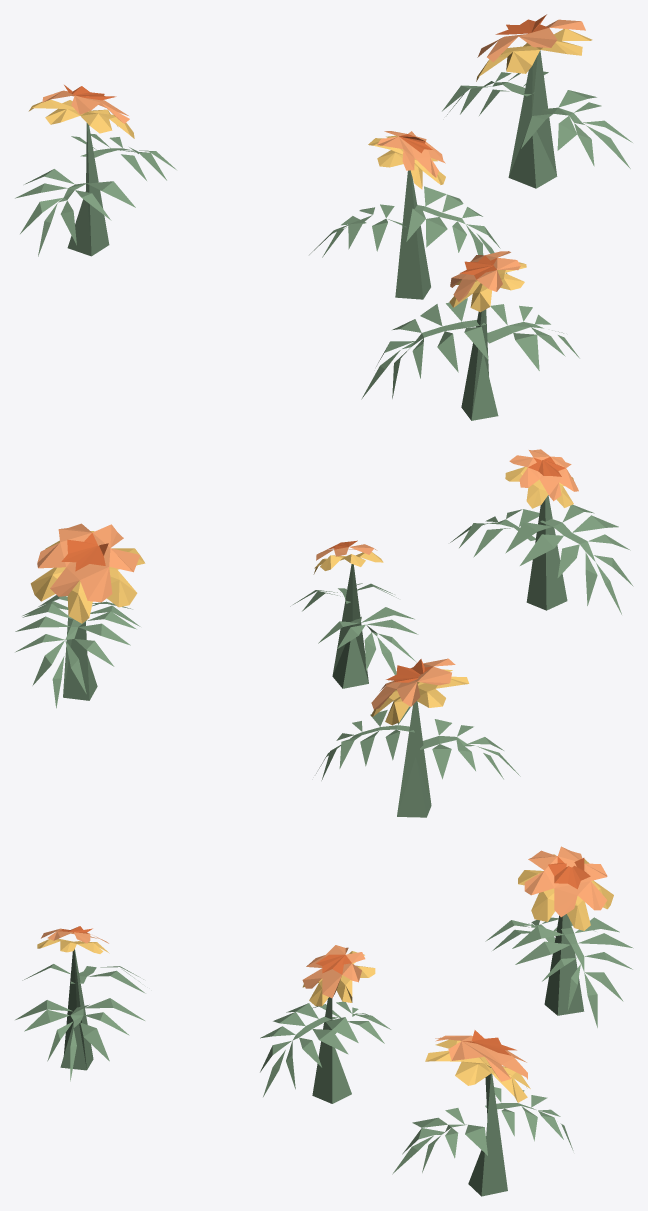
The model's file is flower.gltf.
3 renders of one model, top to bottom at view 1: azimuth 30°, elevation 25°; view 2: azimuth 150°, elevation 25°; view 3: azimuth 270°, elevation 25°, orthographic. The views are drawn at different scales.
Size of the model in its own units: 175 by 49 by 187.
Materials: 1 (1 with a texture image).
